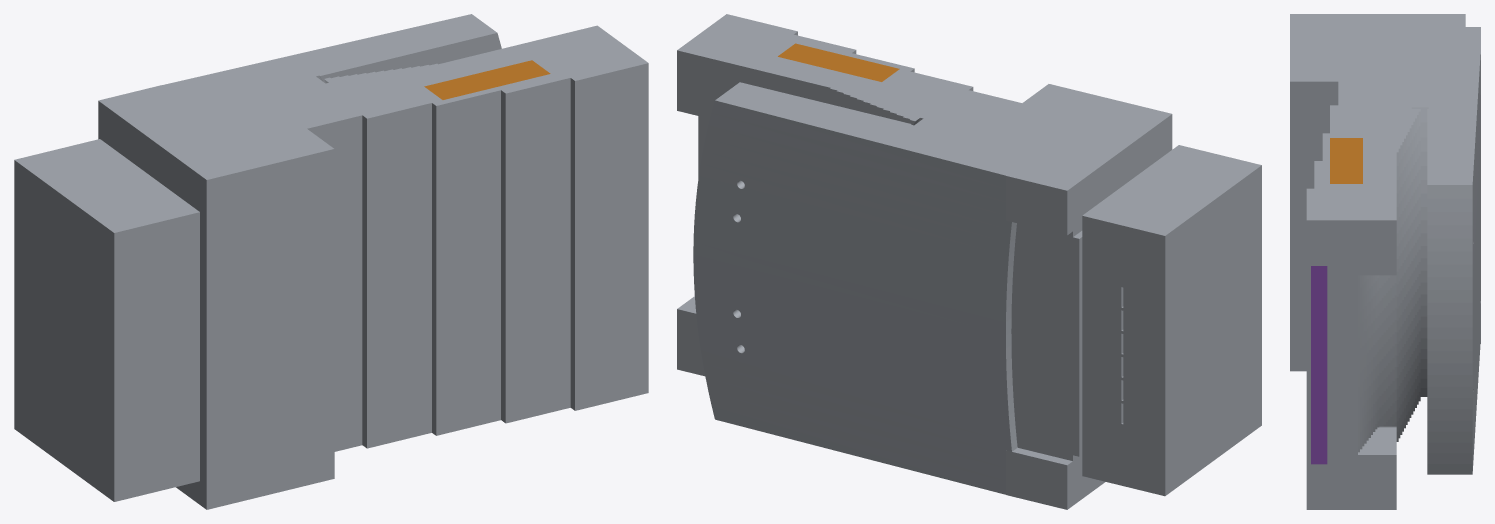
Rendered from modelo-panos-d50.obj.
3 views of the same model, side by side, from view 1: azimuth 30°, elevation 25°; view 2: azimuth 150°, elevation 25°; view 3: azimuth 270°, elevation 25° (orthographic). The views are drawn at different scales.
Visible parts, largest first — view 1: MATERIAL_108, MATERIAL_115, MATERIAL_114, MATERIAL_109, PANO_Lpos; view 2: MATERIAL_113, MATERIAL_115, MATERIAL_111, MATERIAL_112, MATERIAL_110, MATERIAL_114, MATERIAL_109, MATERIAL_107, PANO_Lpos; view 3: MATERIAL_115, MATERIAL_114, MATERIAL_107, MATERIAL_108, PANO_R, MATERIAL_109, MATERIAL_113, PANO_Lpos, MATERIAL_110, MATERIAL_112.
Boxes of the visible parts, <box> form: MATERIAL_108: <box>114,33,648,509</box>; MATERIAL_115: <box>14,14,648,501</box>; MATERIAL_114: <box>14,111,209,427</box>; MATERIAL_109: <box>104,75,328,509</box>; PANO_Lpos: <box>424,60,550,99</box>; MATERIAL_113: <box>698,116,993,472</box>; MATERIAL_115: <box>677,14,1261,495</box>; MATERIAL_111: <box>1011,216,1165,496</box>; MATERIAL_112: <box>693,88,1005,494</box>; MATERIAL_110: <box>677,50,1072,509</box>; MATERIAL_114: <box>1049,135,1217,456</box>; MATERIAL_109: <box>913,114,1172,505</box>; MATERIAL_107: <box>733,180,1123,451</box>; PANO_Lpos: <box>778,43,899,81</box>; MATERIAL_115: <box>1290,14,1480,509</box>; MATERIAL_114: <box>1371,17,1472,474</box>; MATERIAL_107: <box>1358,111,1473,452</box>; MATERIAL_108: <box>1290,81,1338,371</box>; PANO_R: <box>1311,266,1327,464</box>; MATERIAL_109: <box>1411,107,1428,396</box>; MATERIAL_113: <box>1472,79,1480,455</box>; PANO_Lpos: <box>1330,138,1362,183</box>; MATERIAL_110: <box>1358,72,1480,454</box>; MATERIAL_112: <box>1472,54,1480,470</box>.
Bounding box in the file's own units: 40.25 × 23.33 × 13.92.
